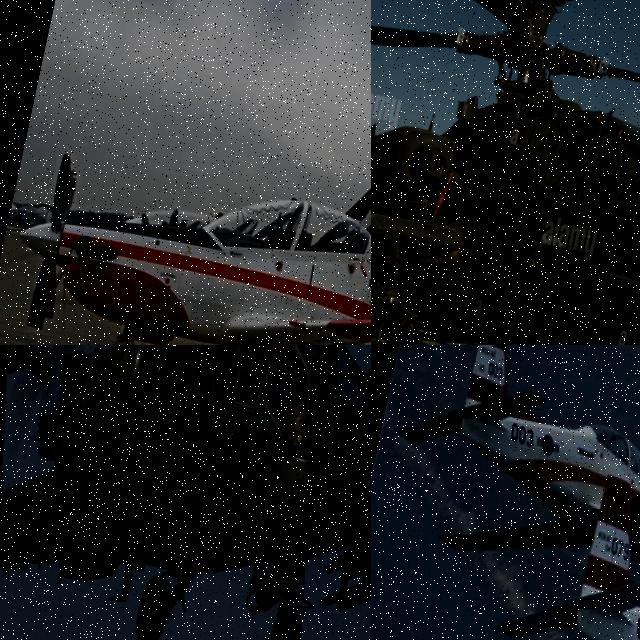Apache: (0, 345, 371, 640), (371, 0, 640, 345)
KT-1: (0, 92, 371, 345), (382, 345, 640, 594), (476, 462, 640, 640)
